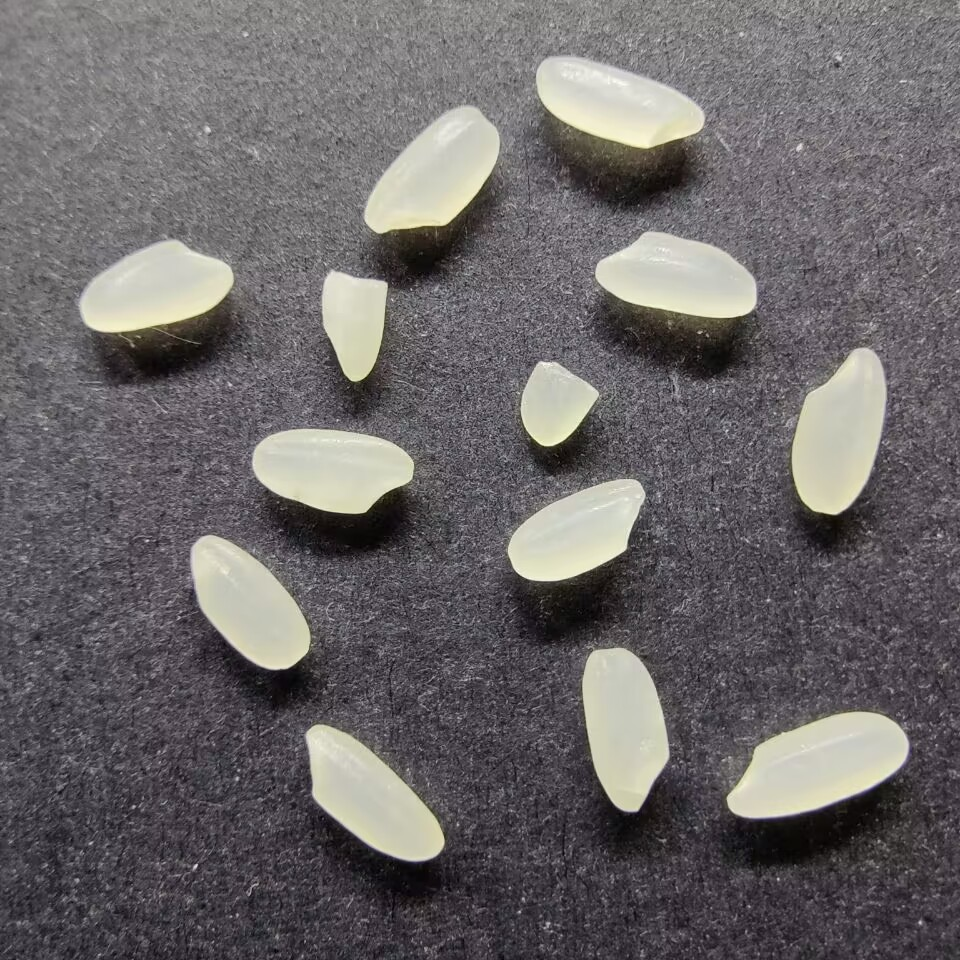broken: (320, 267, 390, 383), (519, 360, 598, 447)
rice: (725, 712, 910, 819), (304, 723, 445, 862), (362, 104, 501, 235), (789, 345, 888, 516), (190, 534, 311, 670), (535, 54, 705, 149), (580, 646, 671, 813), (507, 477, 646, 584), (250, 426, 415, 516), (594, 230, 757, 320), (78, 240, 235, 333)
